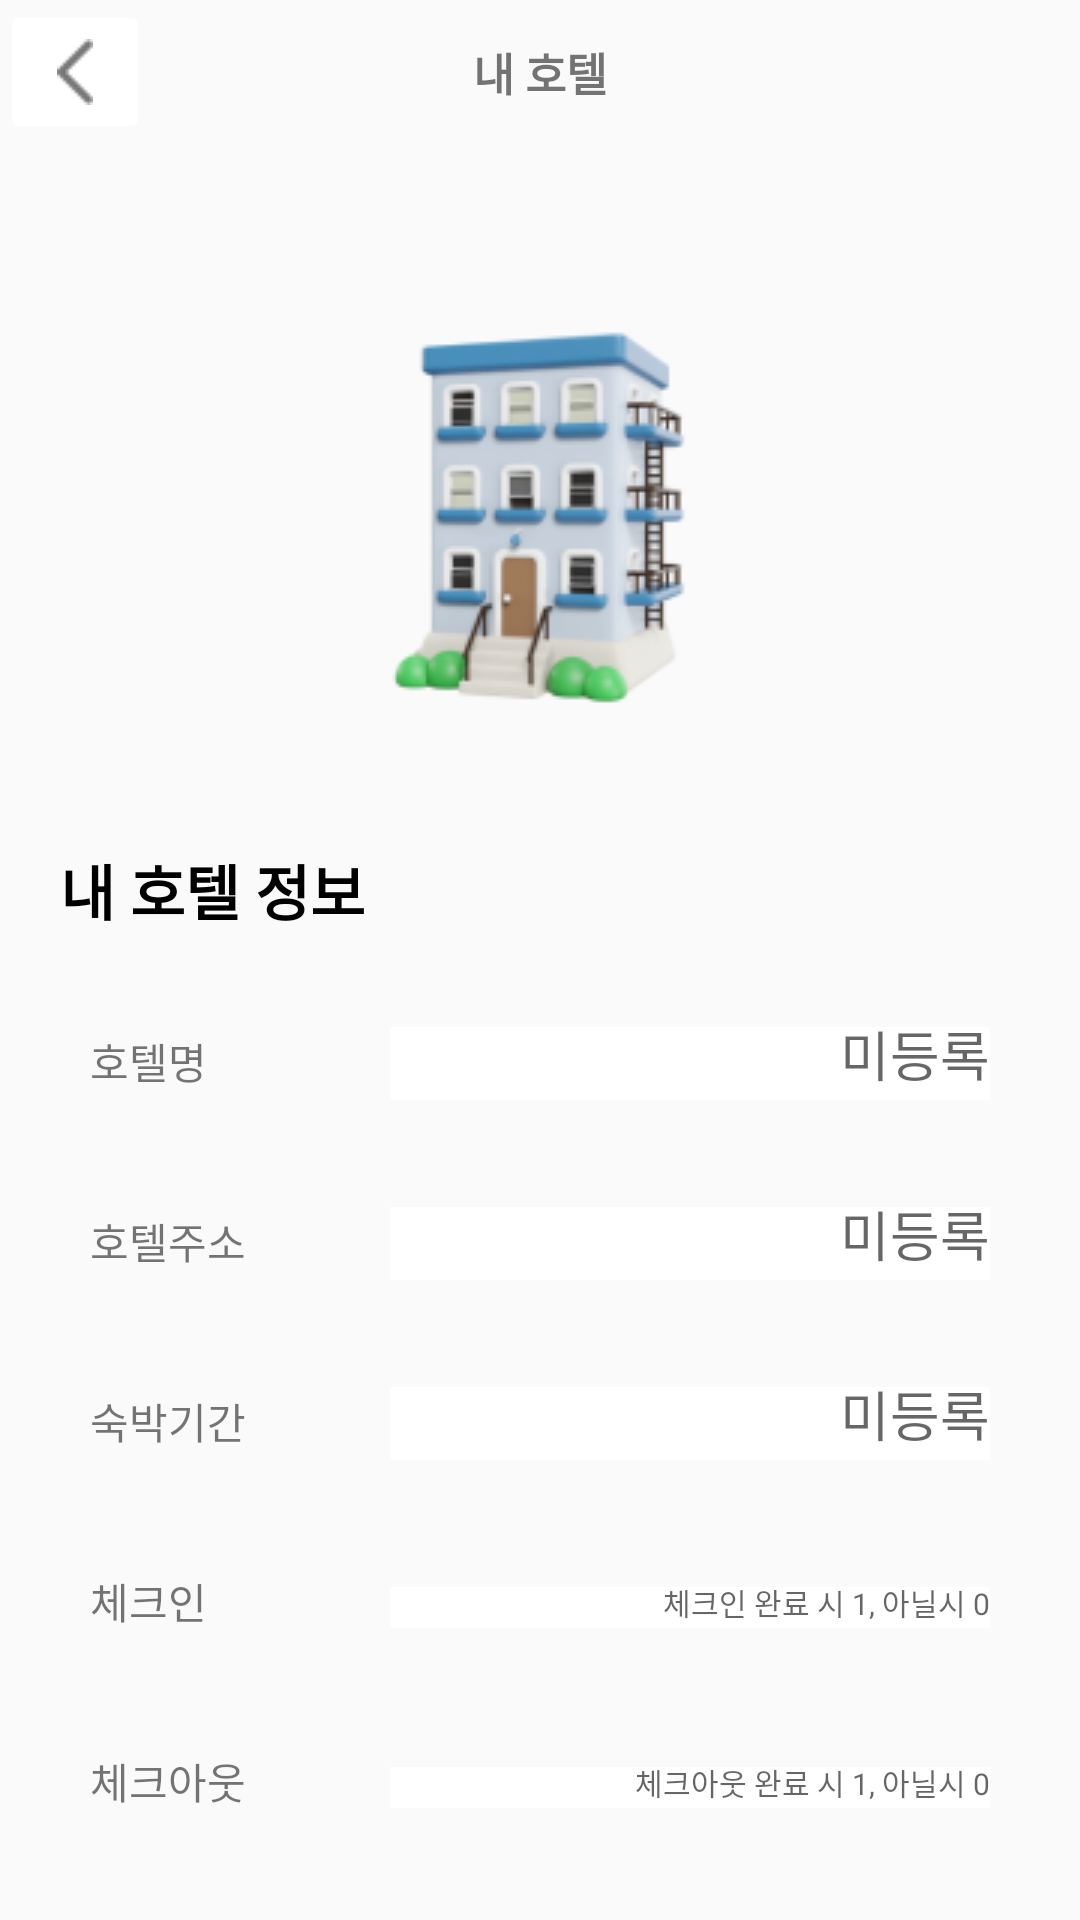

Point at icon controls on the screen. Image size 1080x1920, points as [x,y].
arrow: [75,72]
